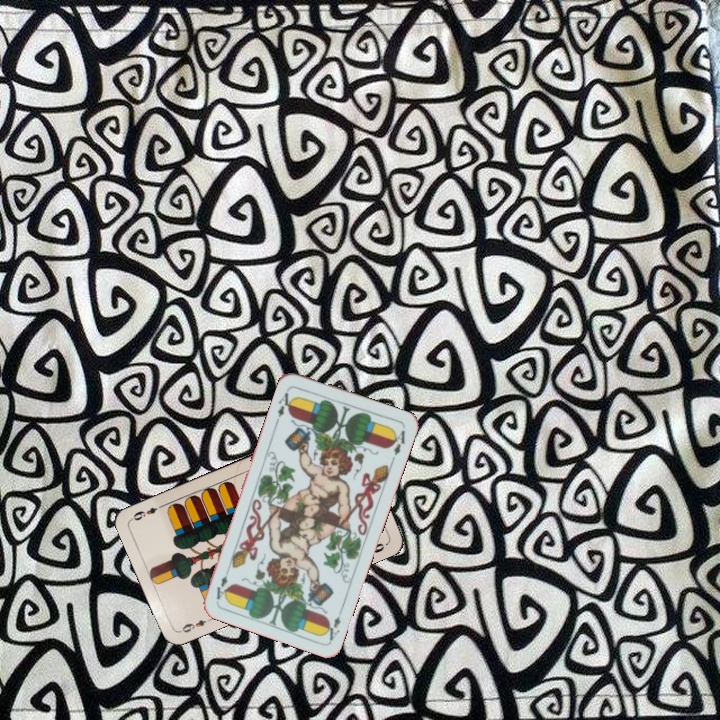E9: (176, 614, 215, 635)
EA: (320, 604, 346, 643), (272, 385, 297, 424)
